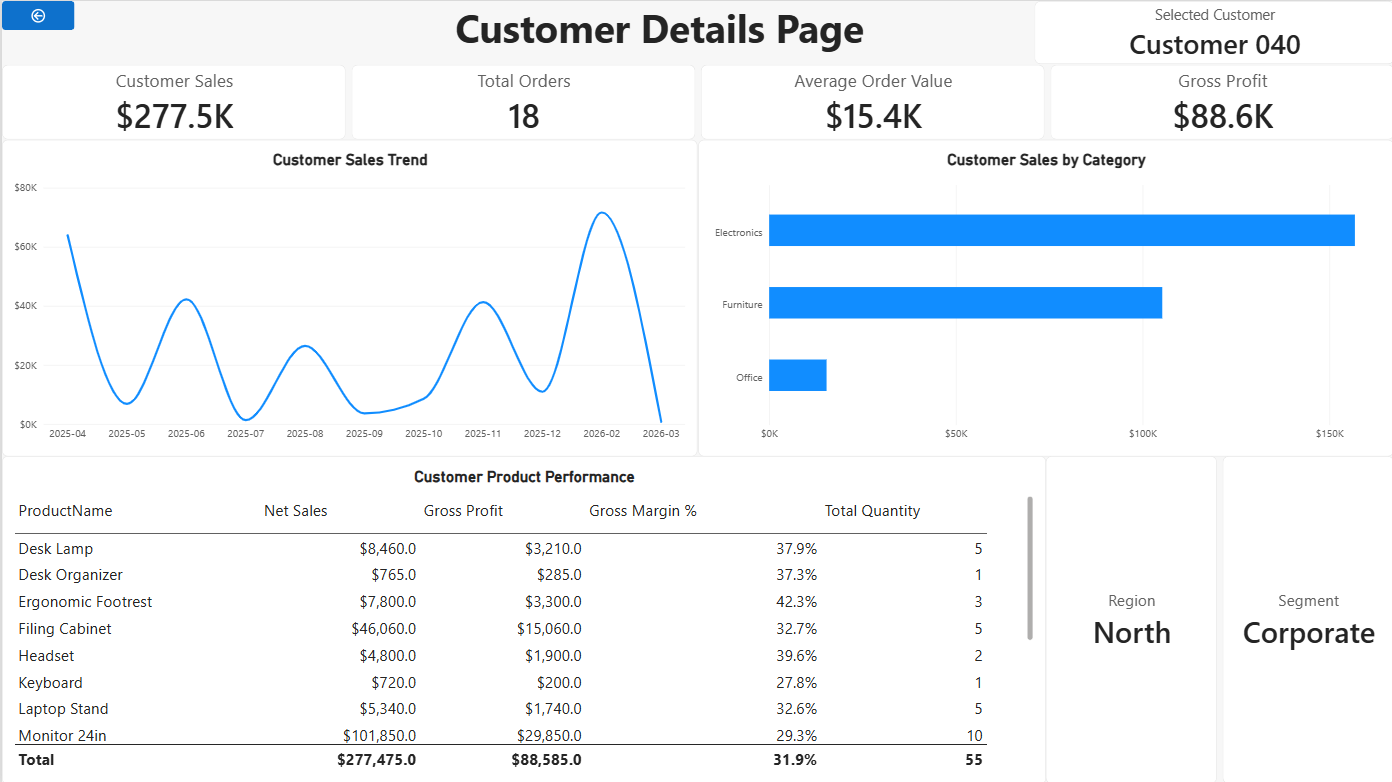

This screenshot's page, from the dashboard's own definition file:
{"tool":"powerbi","page":{"name":"Customer Details","canvas":[1920,1080],"ordinal":5},"visuals":[{"type":"actionButton","box":[0,0,100,40],"z":0},{"type":"textbox","box":[389.2,0,1034.7,87.4],"z":1000},{"type":"cardVisual","fields":{"Data":["Measures_table.Customer Sales","Measures_table.Total Orders","Measures_table.Average Order Value","Measures_table.Gross Profit"]},"box":[0,87.4,1920.1,103.2],"z":2000},{"type":"lineChart","title":"Customer Sales Trend","fields":{"Category":["DimDate.Year Month"],"Y":["Measures_table.Net Sales"]},"box":[0,190.7,959.2,436.9],"z":3000},{"type":"barChart","title":"Customer Sales by Category","fields":{"Category":["DimProduct.Category"],"Y":["Measures_table.Net Sales"]},"box":[961.2,190.7,959.2,436.9],"z":4000},{"type":"tableEx","title":"Customer Product Performance","fields":{"Values":["DimProduct.ProductName","Measures_table.Net Sales","Measures_table.Gross Profit","Measures_table.Gross Margin %","Measures_table.Total Quantity"]},"box":[0,627.6,1439.8,452.8],"z":5000},{"type":"cardVisual","fields":{"Data":["Min(DimCustomer.Region)","Min(DimCustomer.Segment)"]},"box":[1440,628,480,452],"z":6000},{"type":"cardVisual","fields":{"Data":["Min(DimCustomer.CustomerName)"]},"box":[1424.1,0,496.6,87.9],"z":6001}]}

Visuals, with their boxes in screenshot pixels (x1, y1, x2, y2), scaled from the page's 1920x1080 canvas onto the 1392x782 screenshot:
actionButton: 0,0,72,29
textbox: 282,0,1032,63
cardVisual - Measures_table.Customer Sales x Measures_table.Total Orders: 0,63,1391,138
"Customer Sales Trend" lineChart: 0,138,695,454
"Customer Sales by Category" barChart: 697,138,1391,454
"Customer Product Performance" tableEx: 0,454,1044,781
cardVisual - Min(DimCustomer.Region) x Min(DimCustomer.Segment): 1044,455,1391,781
cardVisual - Min(DimCustomer.CustomerName): 1032,0,1391,64
